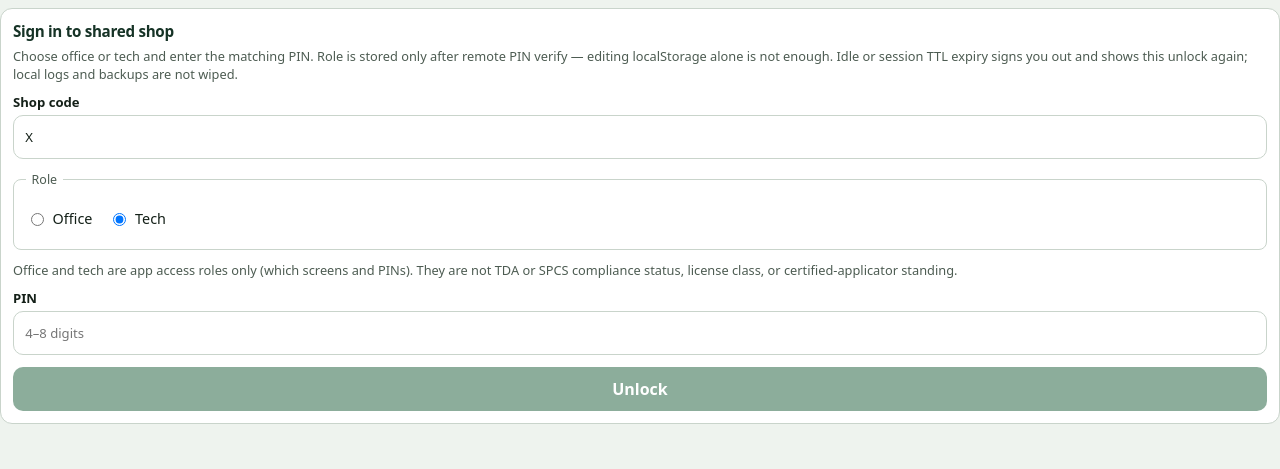
ShopSessionGate: sign in › typing in the code or PIN clears the error
In the password field named "Role PIN": (640, 334) [13,312,1267,356], type "1234"
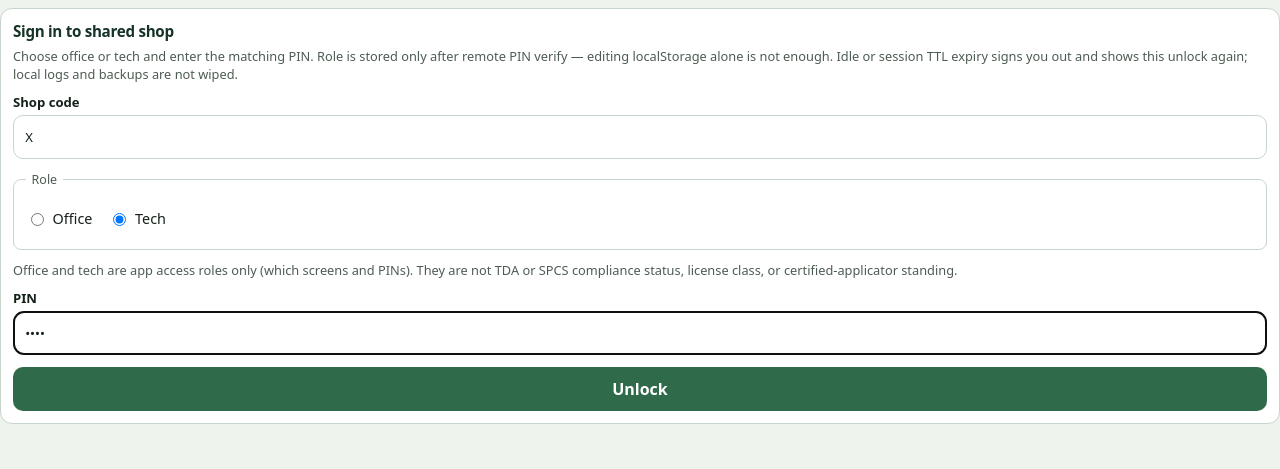
Click the button "Unlock": (640, 389) [13,367,1267,411]
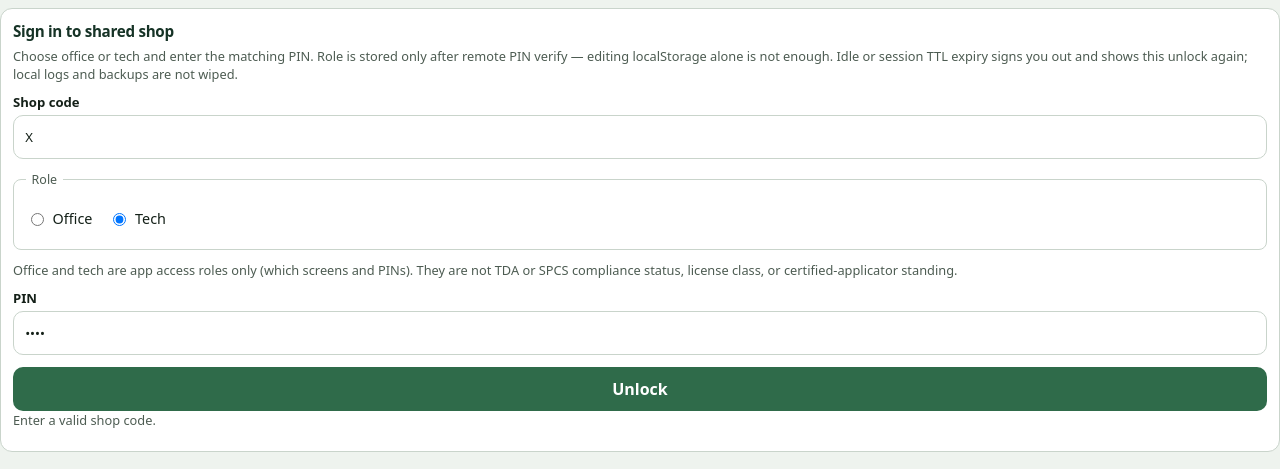
Check: the message "Enter a valid shop code." is shown, box [13,411,156,429]
In the password field named "Role PIN": (640, 334) [13,312,1267,356], type "5"
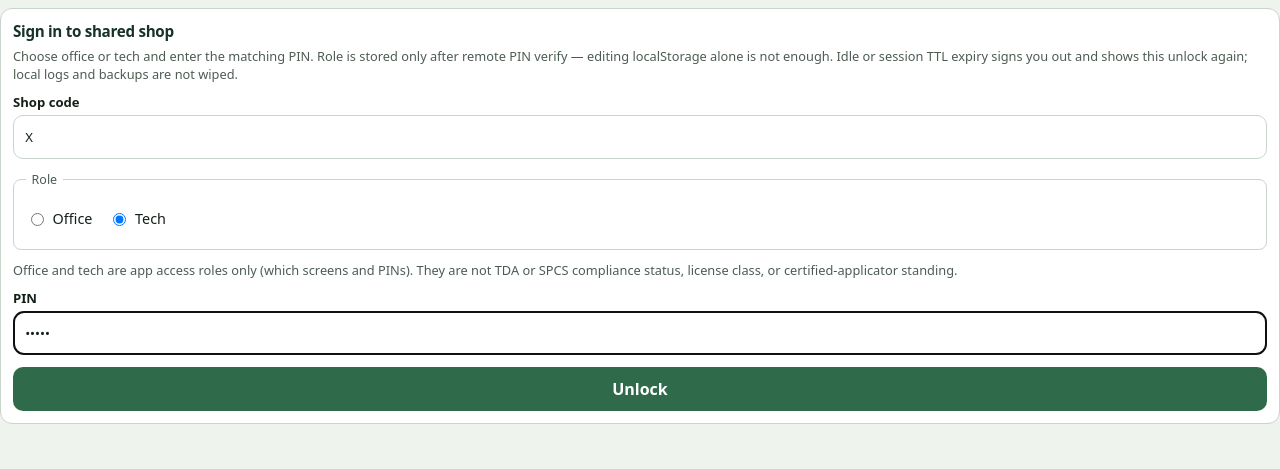
Check: the message "Enter a valid shop code." is gone
Click the button "Unlock": (640, 389) [13,367,1267,411]
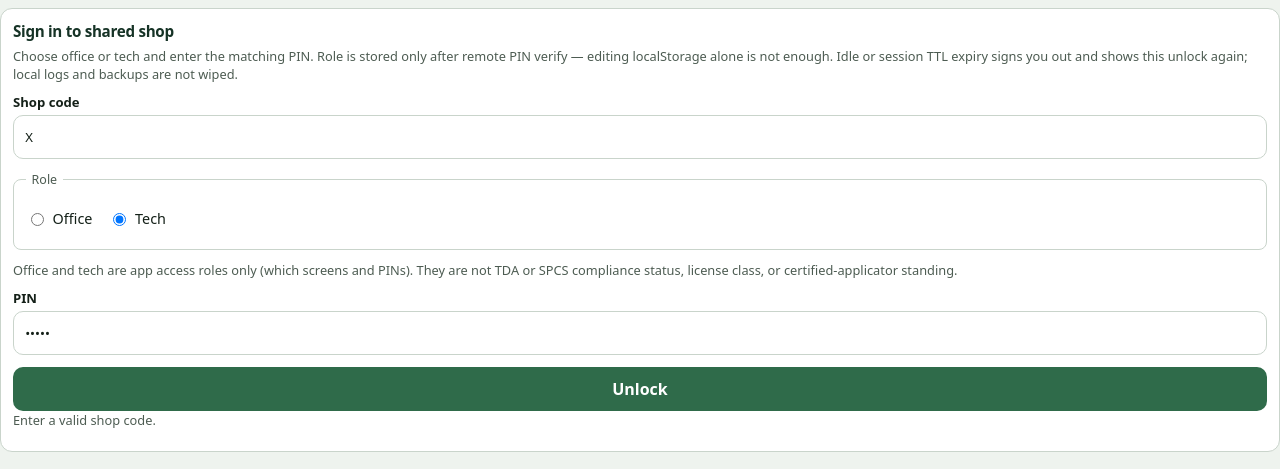
Check: the message "Enter a valid shop code." is shown, box [13,411,156,429]
In the field labelled "Shop code": (640, 138) [13,116,1267,160], type "Y"
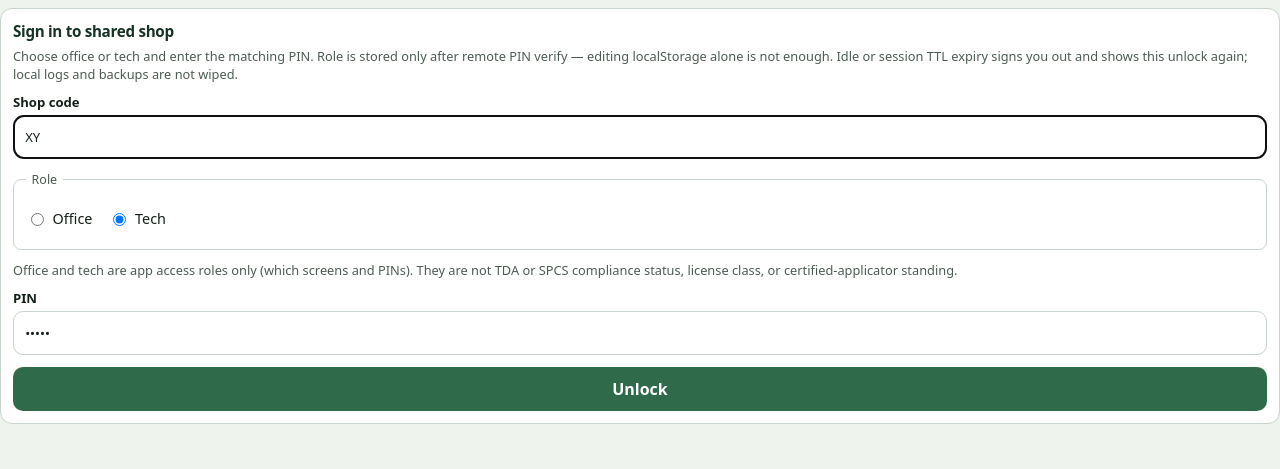
Check: the message "Enter a valid shop code." is gone
